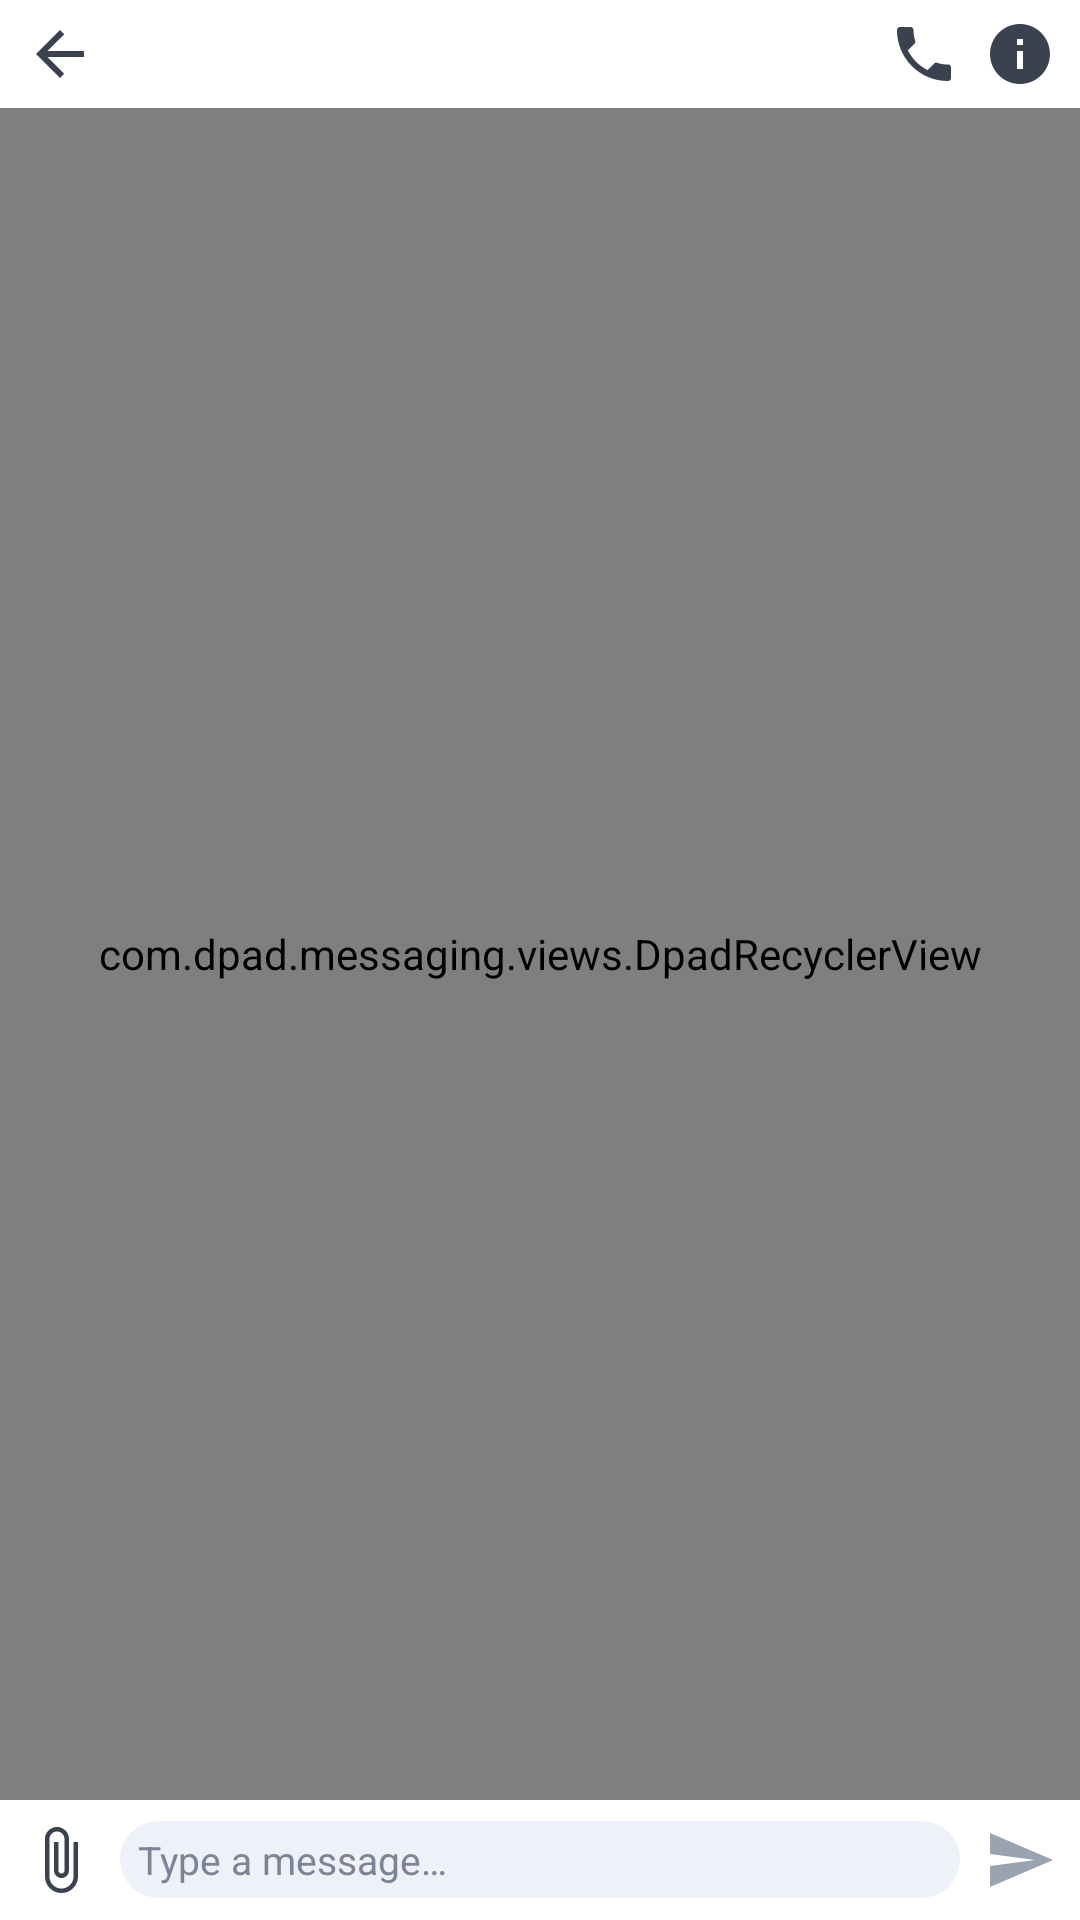

Icons on this 1080×1920 Android screen, each with its box as {"x1": x1, "y1": y1, "x2": x2, "y2": y2}:
Attach: {"x1": 45, "y1": 1827, "x2": 78, "y2": 1893}
Back: {"x1": 36, "y1": 30, "x2": 84, "y2": 78}
Call: {"x1": 897, "y1": 27, "x2": 951, "y2": 81}
Details: {"x1": 990, "y1": 24, "x2": 1050, "y2": 84}
Send: {"x1": 990, "y1": 1833, "x2": 1052, "y2": 1887}
